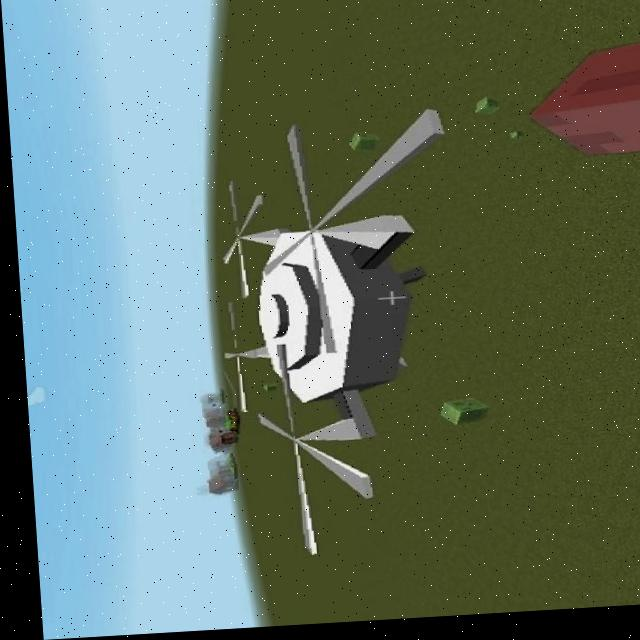drone: (176, 99, 515, 543)
